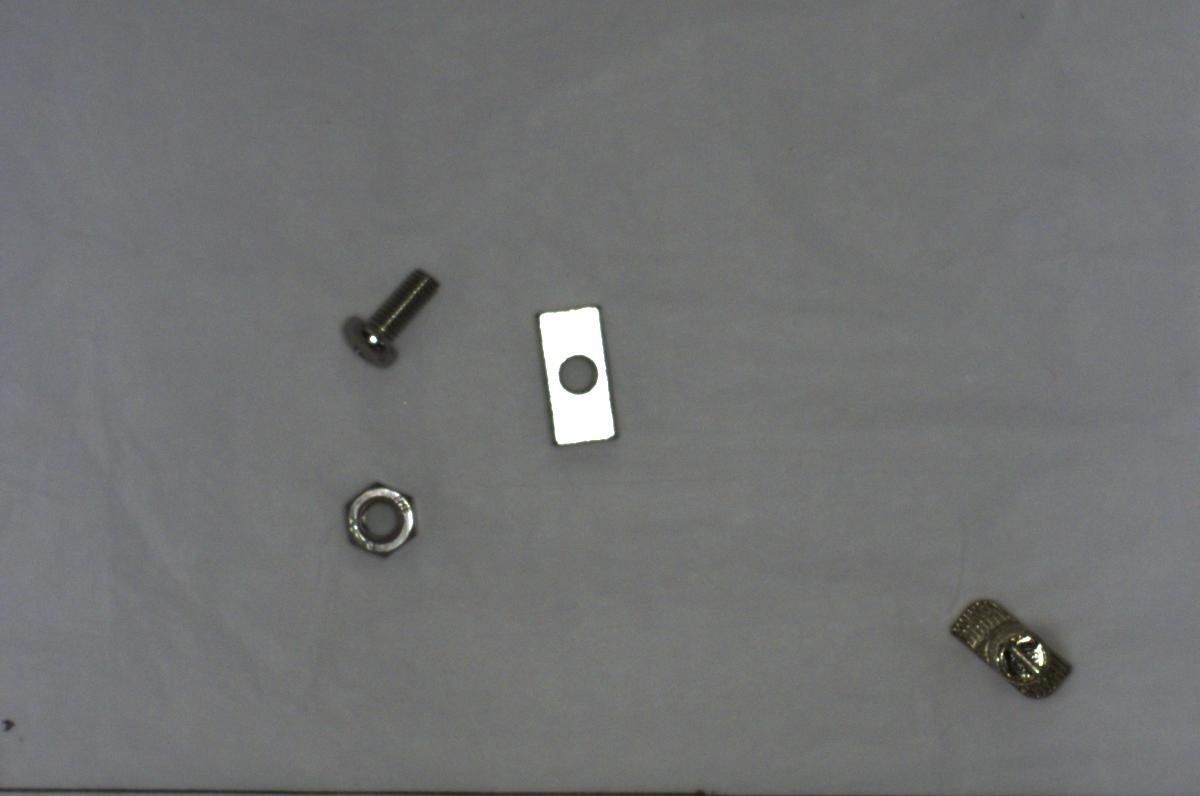Hexagon nut: (342, 476, 422, 560)
Rectangular nut: (531, 296, 621, 453)
Round head screw: (342, 260, 440, 365)
T-shaped screw: (945, 592, 1081, 705)
